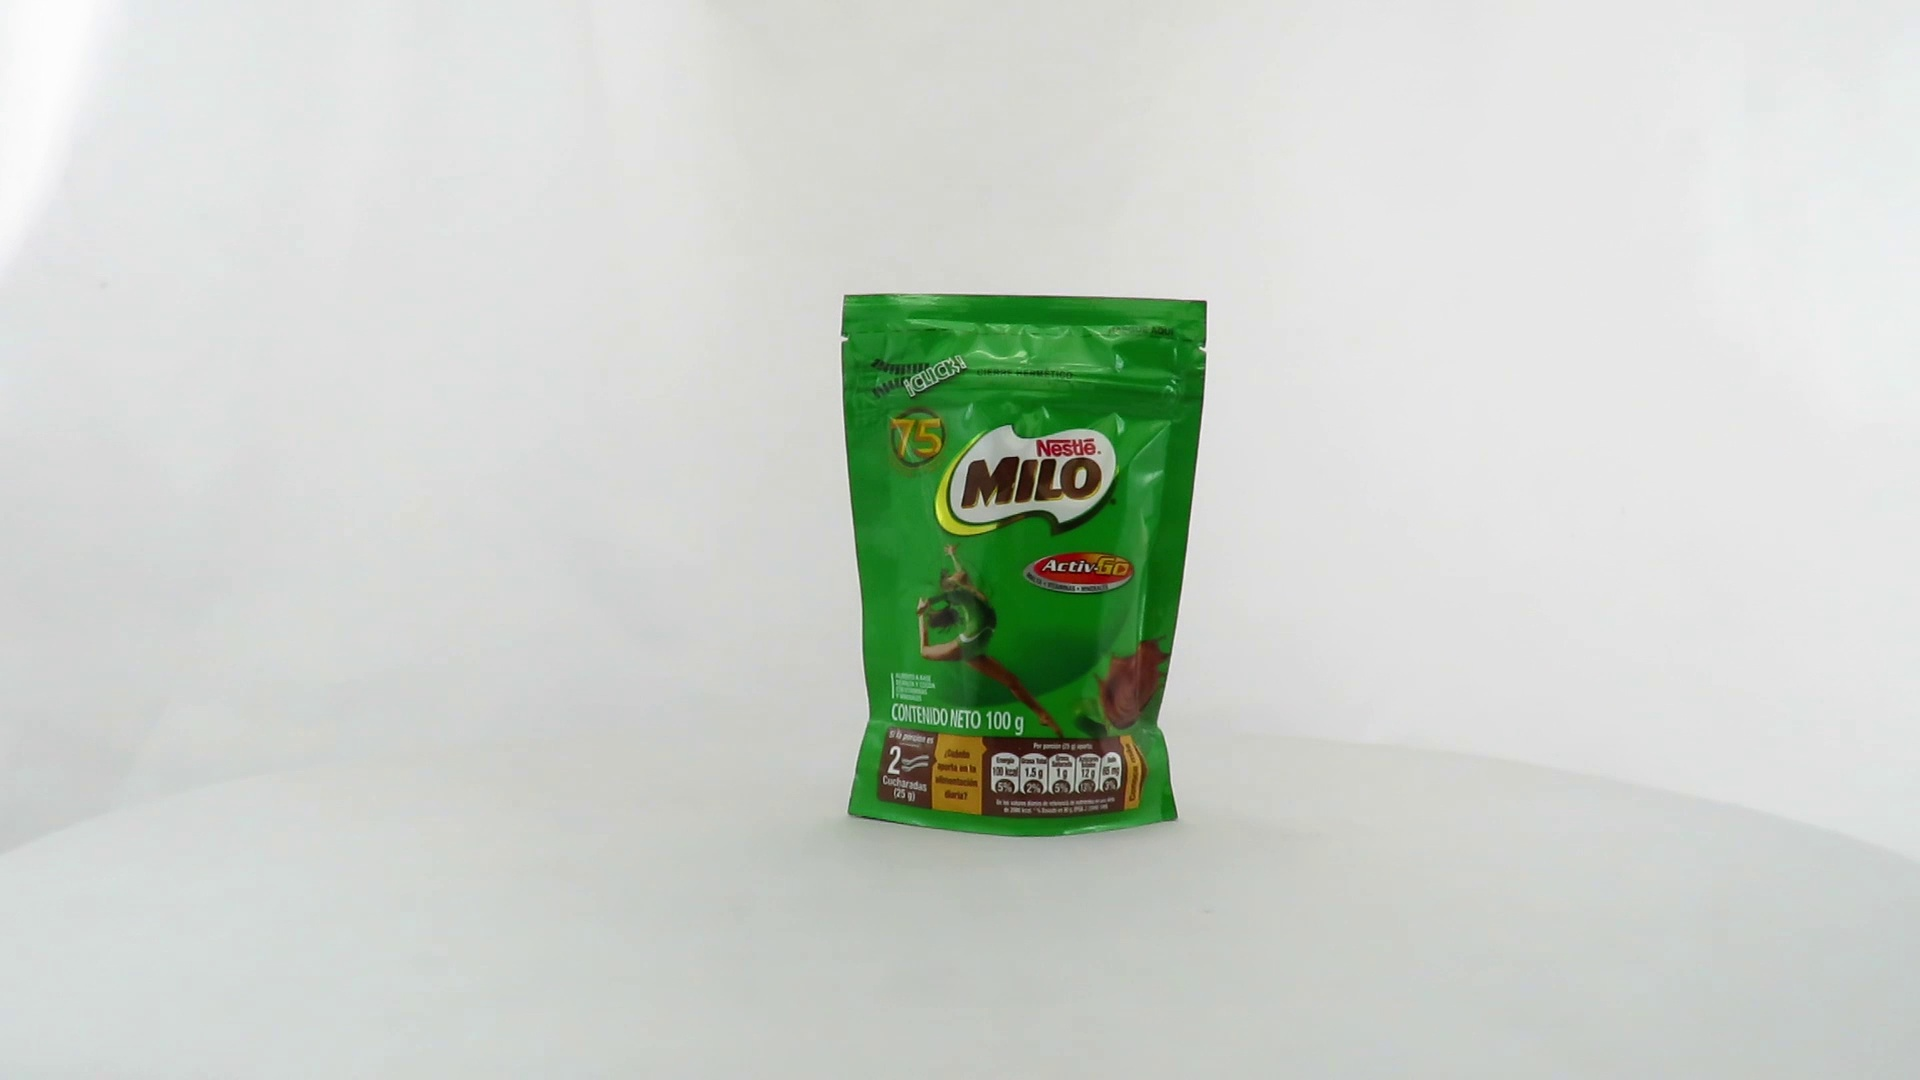COL0170203DYP10000: (836, 287, 1213, 843)
